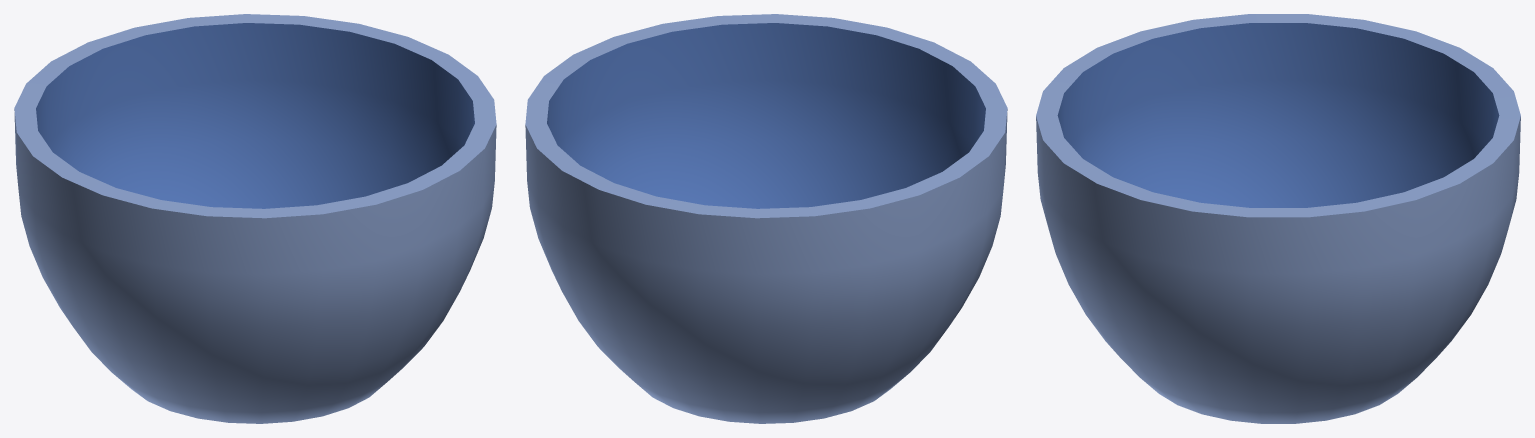
The model's file is Plate C.fbx.
The picture shows the model from 3 angles, left to right: view 1: azimuth 30°, elevation 25°; view 2: azimuth 150°, elevation 25°; view 3: azimuth 270°, elevation 25°; orthographic projection.
Visible parts, largest first — view 1: Plate.002; view 2: Plate.002; view 3: Plate.002.
Boxes of the visible parts, box(x1,y1,x2,y2) form: Plate.002: box(14, 14, 496, 423); Plate.002: box(525, 14, 1007, 423); Plate.002: box(1036, 14, 1520, 423).
Size of the model in its own units: 0.3625 by 0.2092 by 0.3651.
